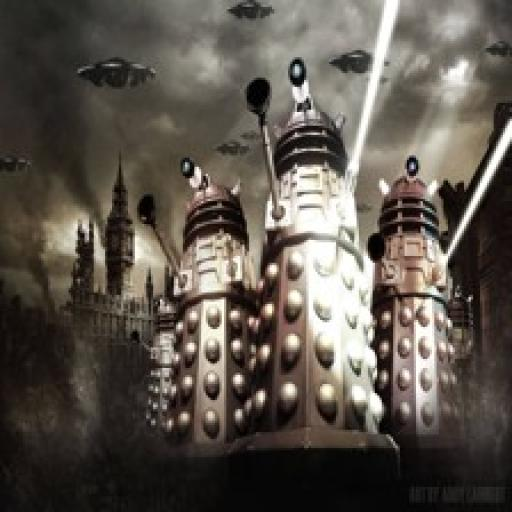dalek: (231, 53, 403, 482), (139, 154, 265, 484), (364, 152, 480, 472), (130, 286, 182, 455)
